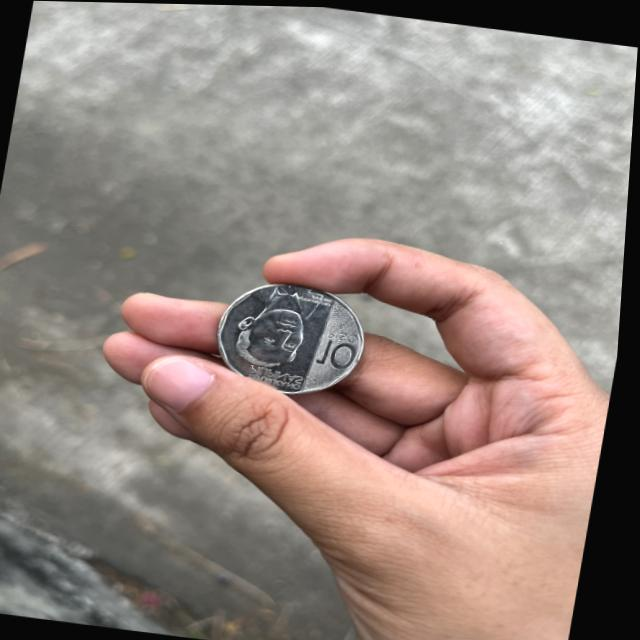10_New_Front: (316, 322, 372, 369)
